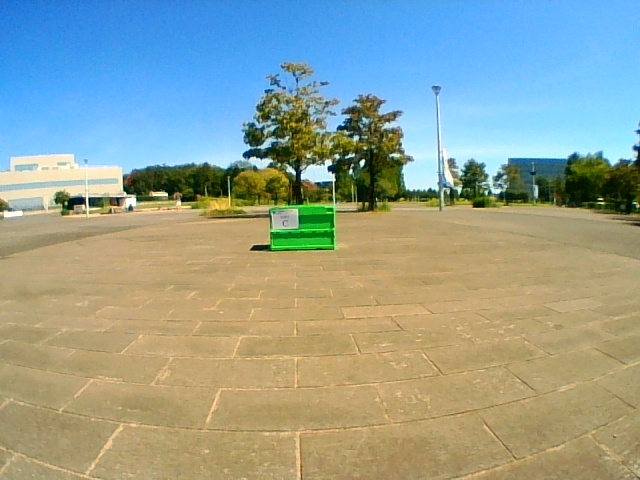green_box: (270, 206, 335, 249)
tag_c: (273, 210, 297, 229)
